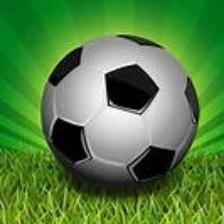Sports-Ball: (39, 33, 202, 194)
